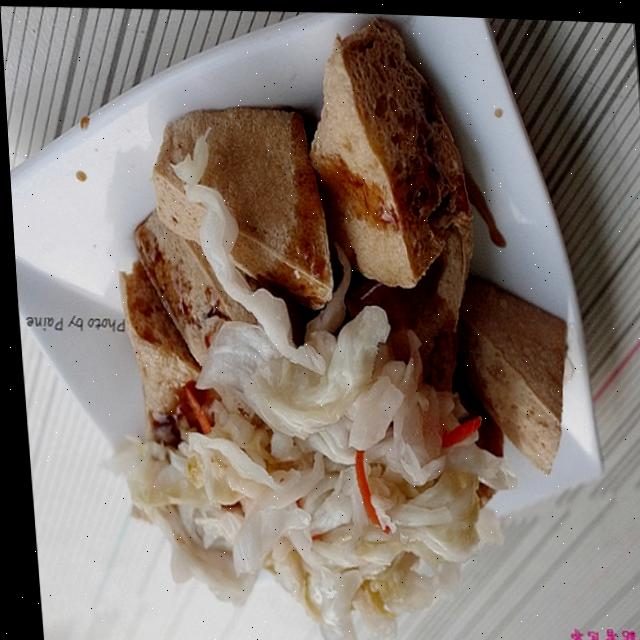豆腐料理: (11, 0, 640, 640)
